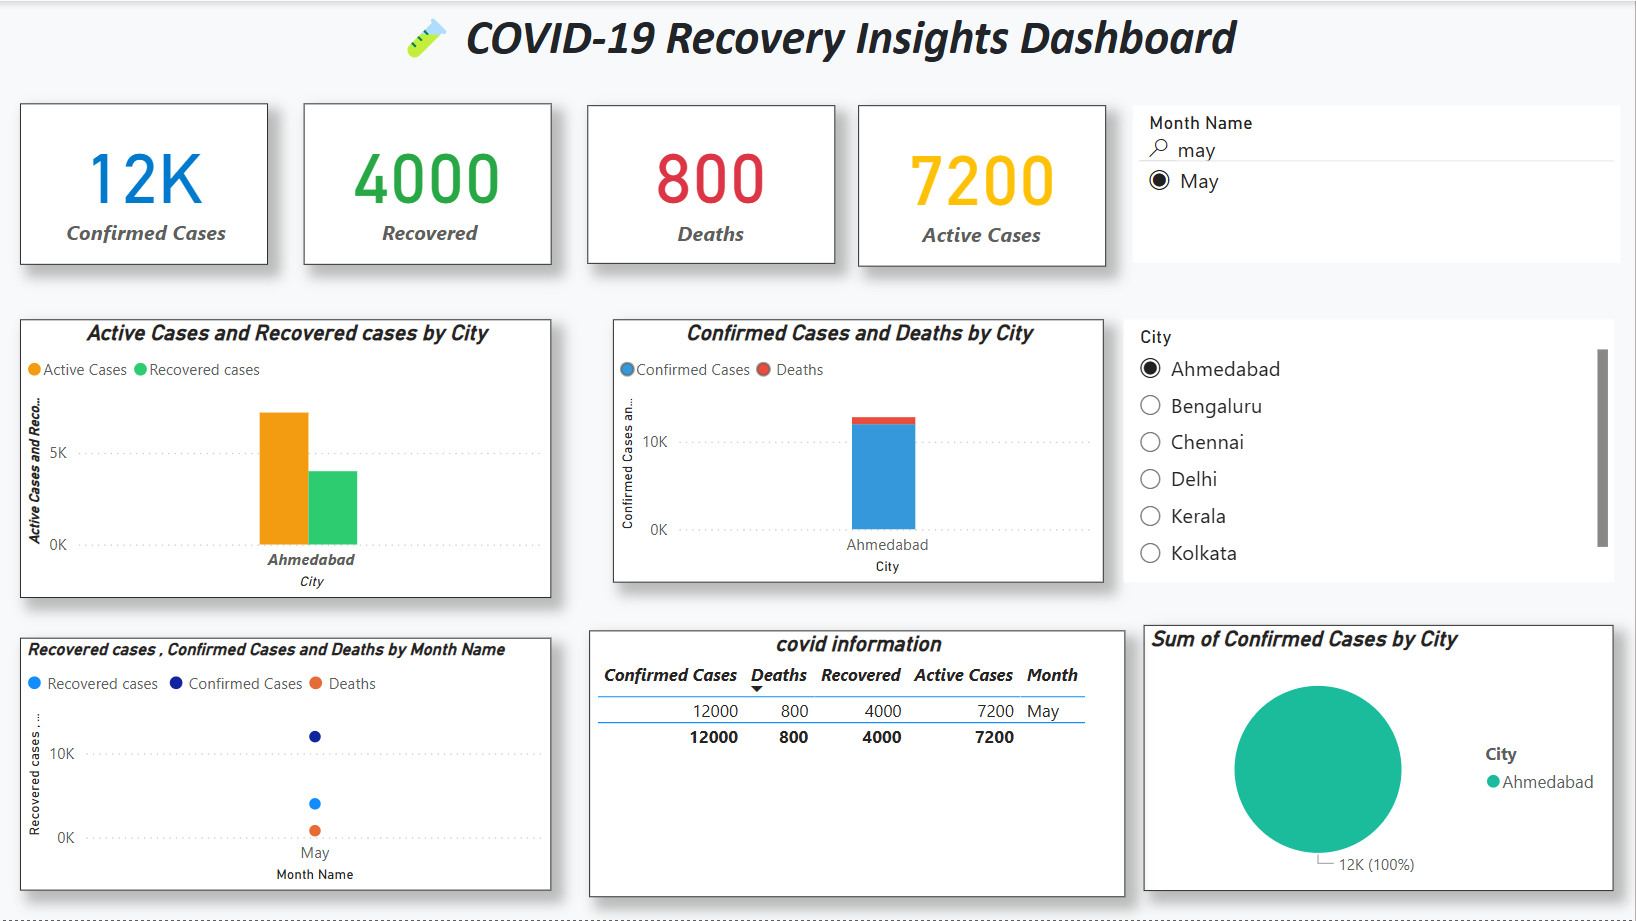

What the dashboard file says about the page in this screenshot:
{"tool":"powerbi","page":{"name":"Page 1","canvas":[1280,720],"ordinal":0},"visuals":[{"type":"lineChart","fields":{"Category":["Sheet1.Month Name"],"Y":["Sum(Sheet1.Recovered)","Sum(Sheet1.Confirmed Cases)","Sum(Sheet1.Deaths)"]},"box":[16,498,416,198],"z":0},{"type":"columnChart","fields":{"Category":["Sheet1.City"],"Y":["Sum(Sheet1.Confirmed Cases)","Sum(Sheet1.Deaths)"]},"box":[480,250,384,206],"z":1000},{"type":"clusteredColumnChart","fields":{"Category":["Sheet1.City"],"Y":["Sum(Sheet1.Active Cases)","Sum(Sheet1.Recovered)"]},"box":[16,250,416,218],"z":2000},{"type":"pieChart","fields":{"Y":["Sum(Sheet1.Confirmed Cases)"],"Category":["Sheet1.City"]},"box":[896,488,368,208],"z":3000},{"type":"tableEx","title":"covid information","fields":{"Values":["Sum(Sheet1.Confirmed Cases)","Sum(Sheet1.Deaths)","Sum(Sheet1.Recovered)","Sum(Sheet1.Active Cases)","Sheet1.Month Name"]},"box":[460.8,493.3,419.7,209],"z":4000},{"type":"slicer","fields":{"Values":["Sheet1.Month Name"]},"box":[887.3,82.2,382,123.3],"z":5000},{"type":"card","fields":{"Values":["Sum(Sheet1.Confirmed Cases)"]},"box":[16,80,194,126],"z":6000},{"type":"card","fields":{"Values":["Sum(Sheet1.Deaths)"]},"box":[460,82,194,124],"z":7000},{"type":"card","fields":{"Values":["Sum(Sheet1.Recovered)"]},"box":[238,80,194,126],"z":8000},{"type":"card","fields":{"Values":["Sum(Sheet1.Active Cases)"]},"box":[672,82,194,126],"z":9000},{"type":"slicer","fields":{"Values":["Sheet1.City"]},"box":[880,250,384,206],"z":10000},{"type":"textbox","box":[0,0,1279.6,61.7],"z":11000}]}

Visuals, with their boxes in screenshot pixels (x1, y1, x2, y2), scaled from the page's 1280x720 canvas onto the 1636x921 screenshot:
lineChart - Sheet1.Month Name x Sum(Sheet1.Recovered): l=20, t=637, r=552, b=890
columnChart - Sheet1.City x Sum(Sheet1.Confirmed Cases): l=614, t=320, r=1104, b=583
clusteredColumnChart - Sheet1.City x Sum(Sheet1.Active Cases): l=20, t=320, r=552, b=599
pieChart - Sum(Sheet1.Confirmed Cases) x Sheet1.City: l=1145, t=624, r=1616, b=890
"covid information" tableEx: l=589, t=631, r=1125, b=898
slicer - Sheet1.Month Name: l=1134, t=105, r=1622, b=263
card - Sum(Sheet1.Confirmed Cases): l=20, t=102, r=268, b=264
card - Sum(Sheet1.Deaths): l=588, t=105, r=836, b=264
card - Sum(Sheet1.Recovered): l=304, t=102, r=552, b=264
card - Sum(Sheet1.Active Cases): l=859, t=105, r=1107, b=266
slicer - Sheet1.City: l=1125, t=320, r=1616, b=583
textbox: l=0, t=0, r=1635, b=79
